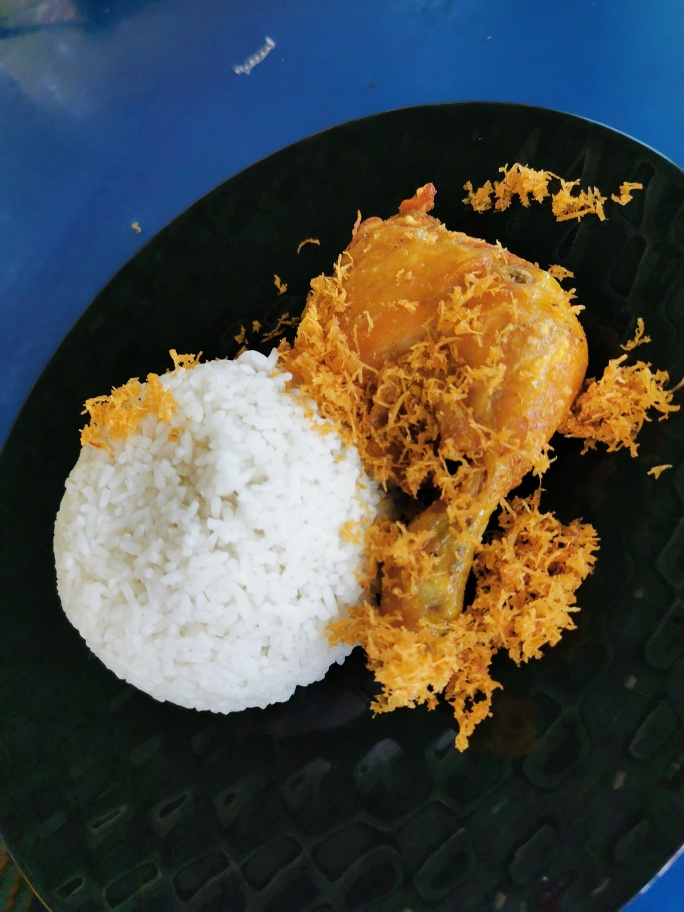ayam goreng: (300, 167, 598, 742)
nasi putih: (54, 339, 411, 754)
